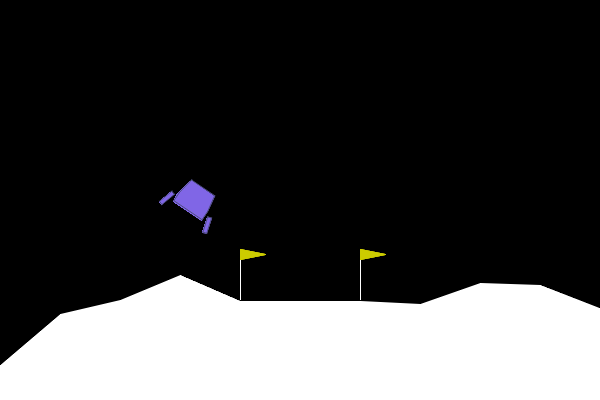lander: (157, 170, 229, 236)
